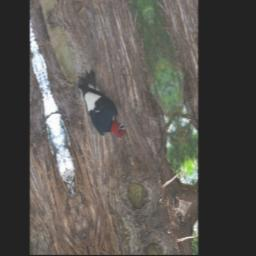Woodpecker: (72, 58, 132, 155)
